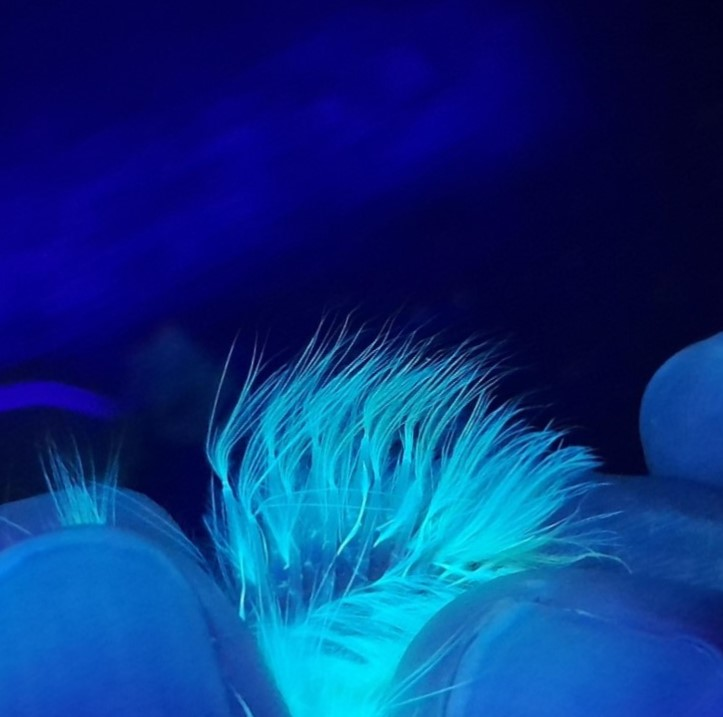female: (215, 426, 494, 653)
